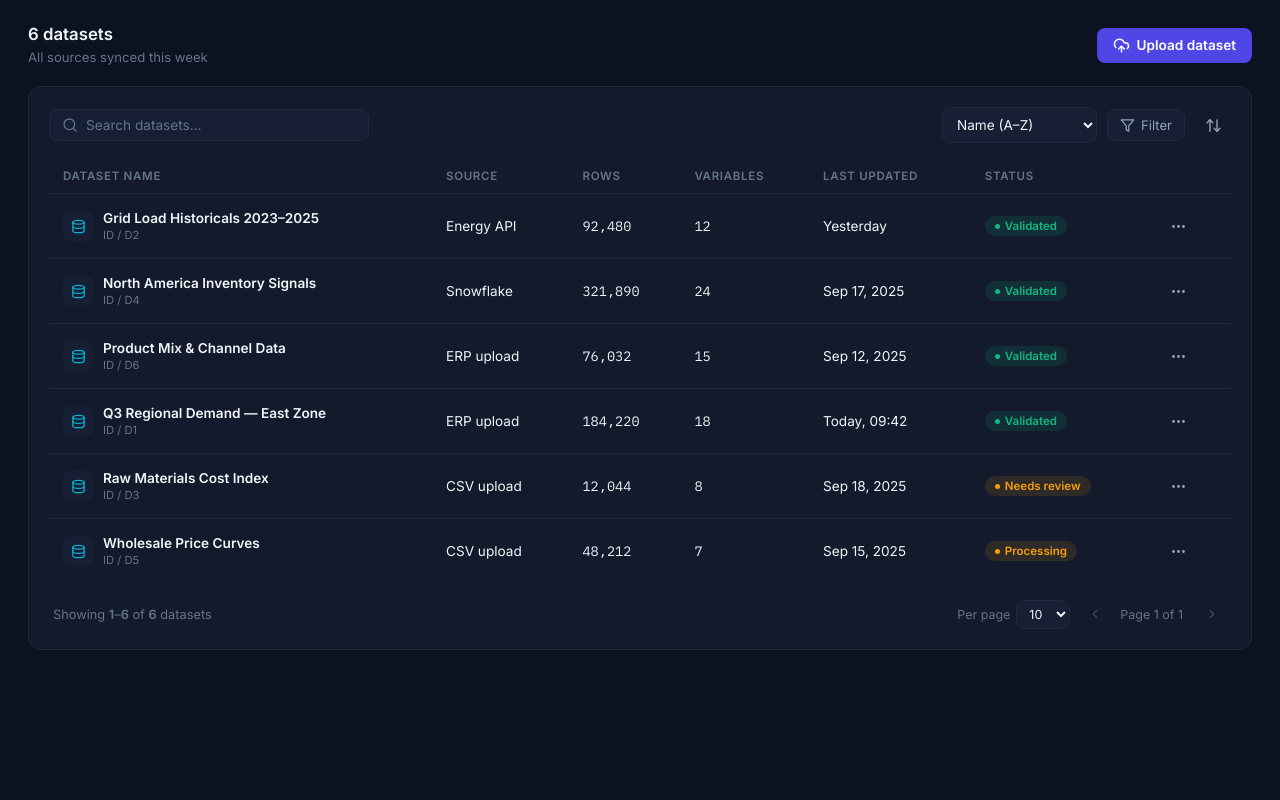
DatasetsPage › renames a dataset through the shared prompt dialog
Step 1. Click the button named "Options for" → [1179, 226], box [1161,208,1197,244]
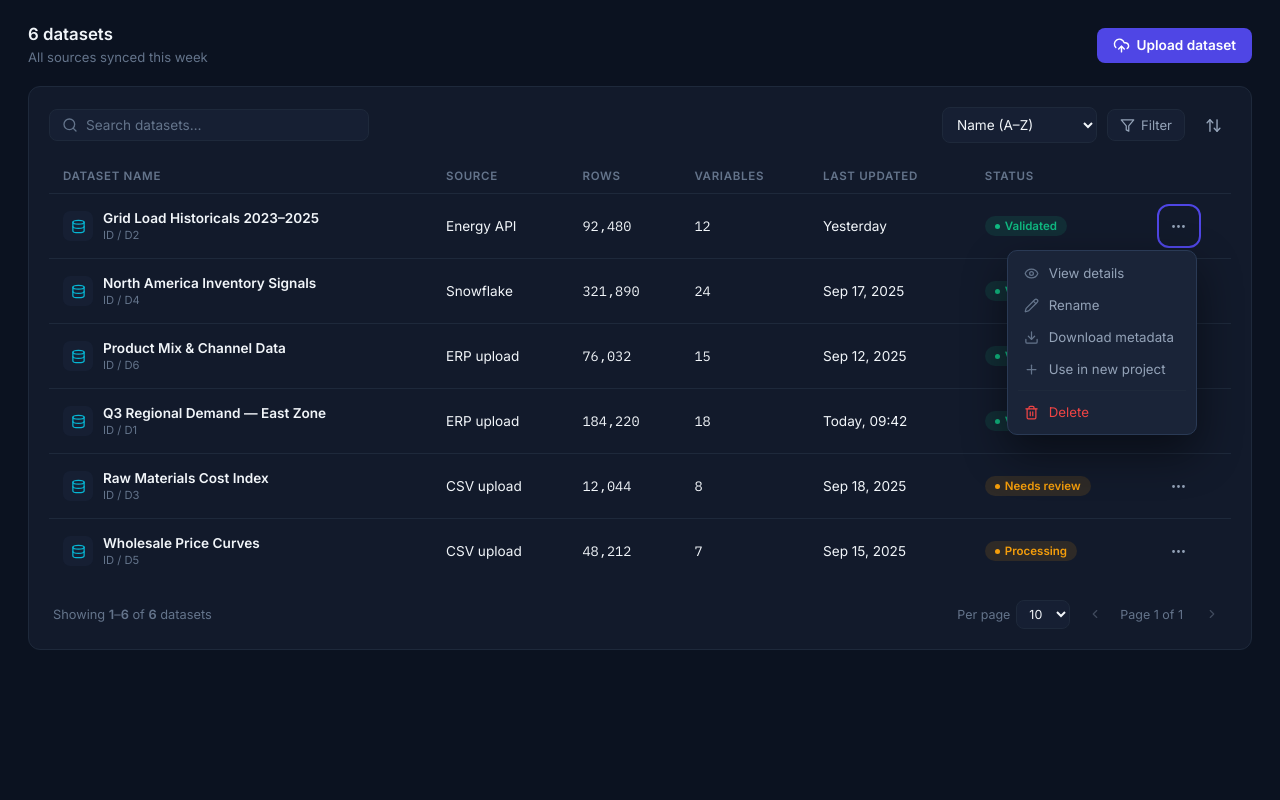
Step 2. Click the menu item "Rename" → [1102, 305], box [1014,289,1190,321]
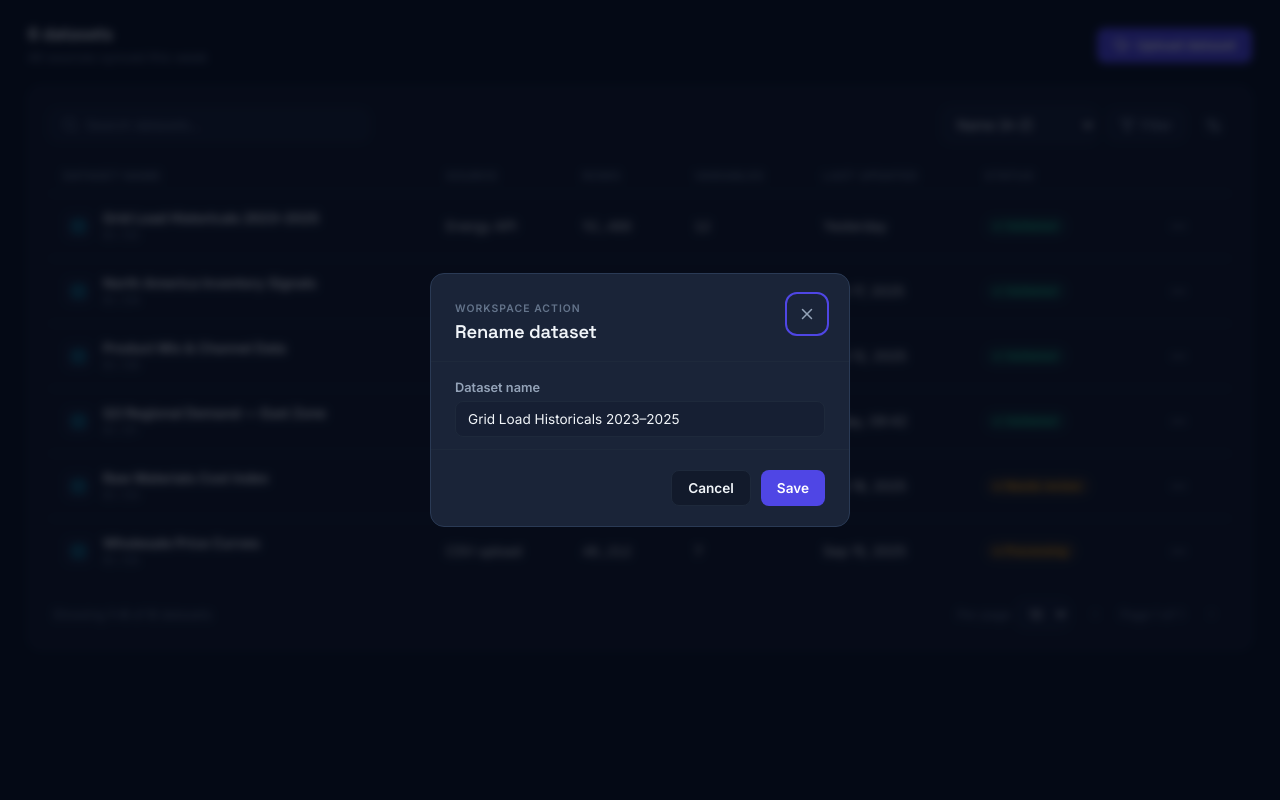
Step 3. Replace the text in the field labelled "Dataset name" with "Renamed by test" → [640, 419], box [455,401,825,437]
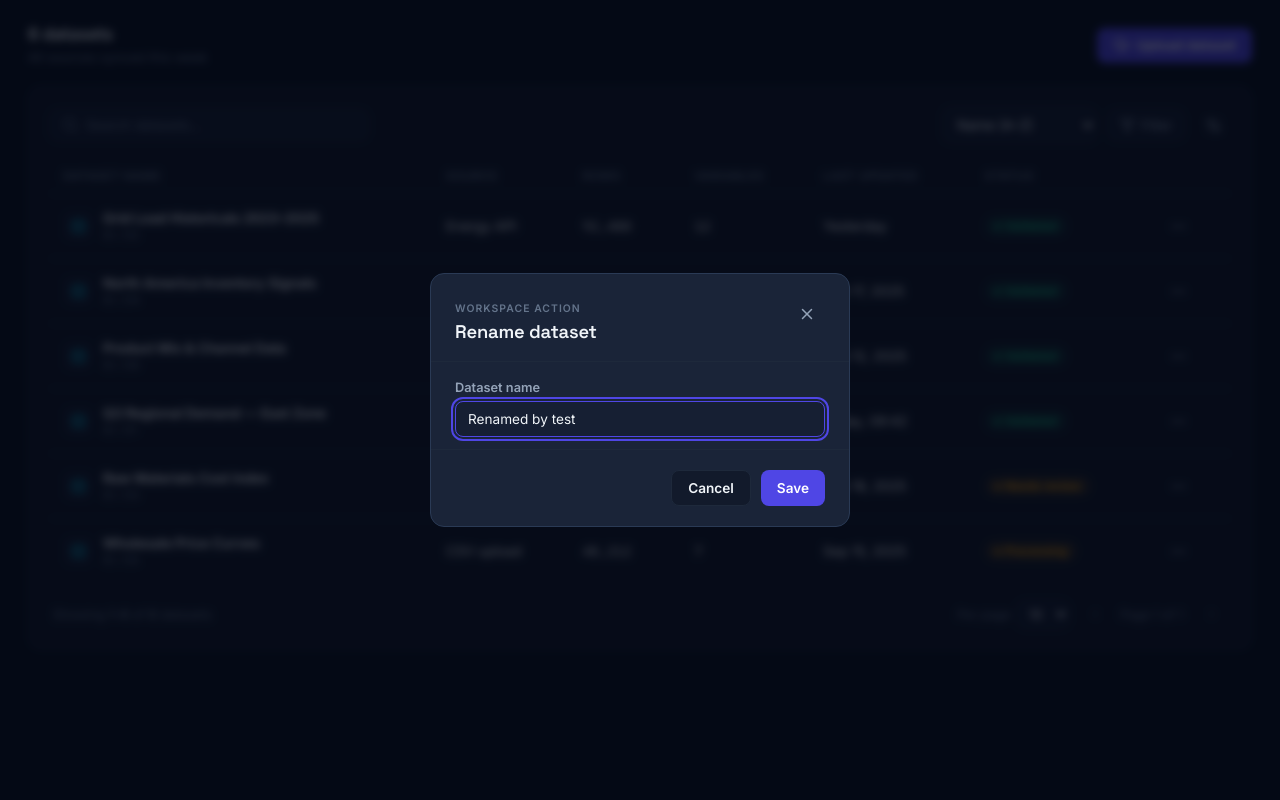
Step 4. Click the button "Save" → [793, 488], box [761,470,825,506]
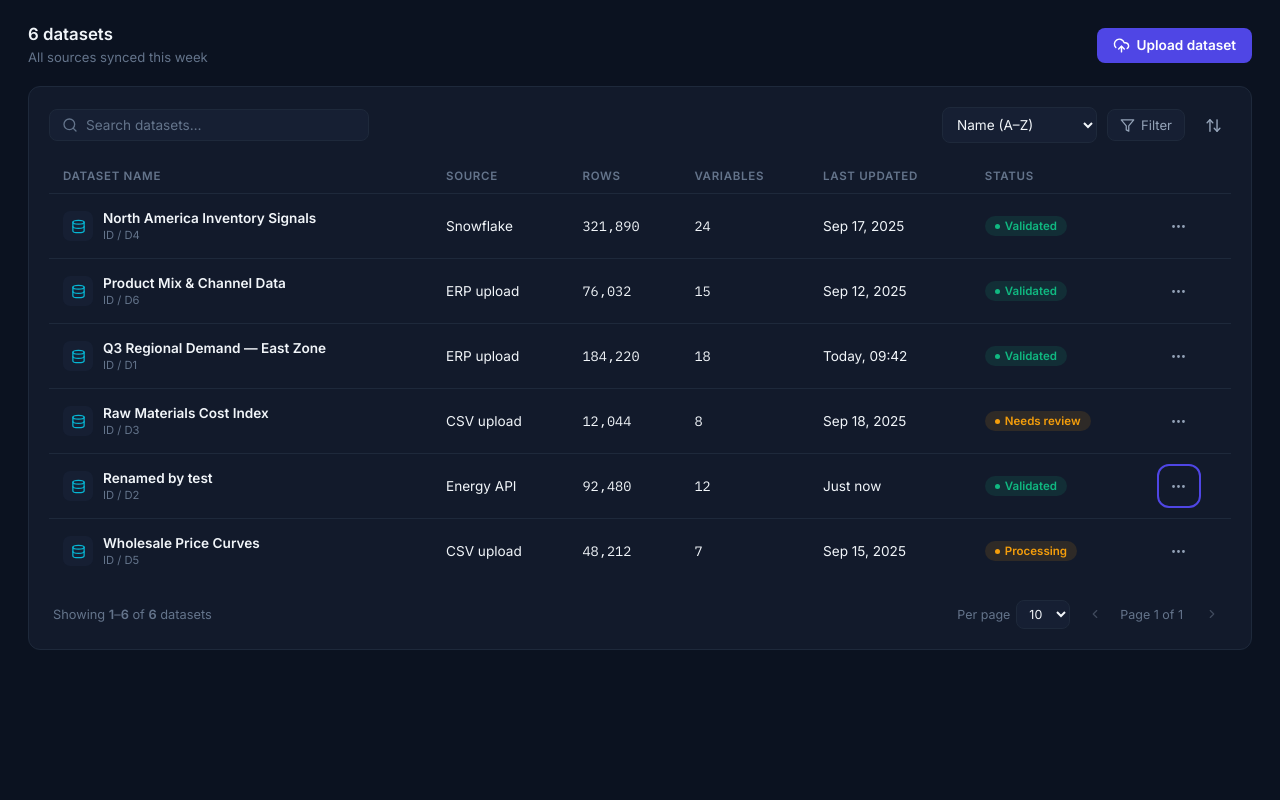
Now the dialog is gone
Now the text "Renamed by test" is shown, box [103,470,213,486]
